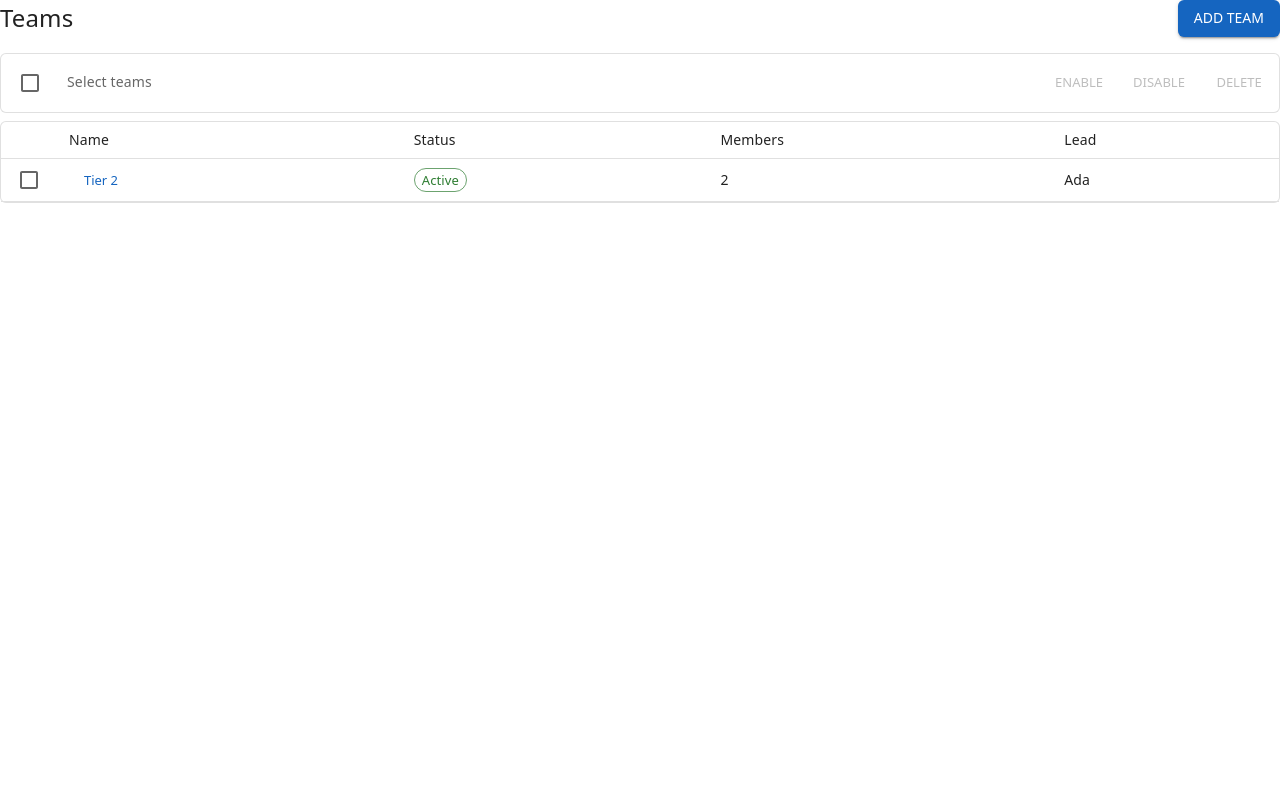
Test: TeamListPage (TS-M4-C4) › AC-3: the roster exposes only per-member remove checkboxes (no add-member control)
Click the button with test id "team-edit-1" at x=101, y=180, box [69,164,133,195]
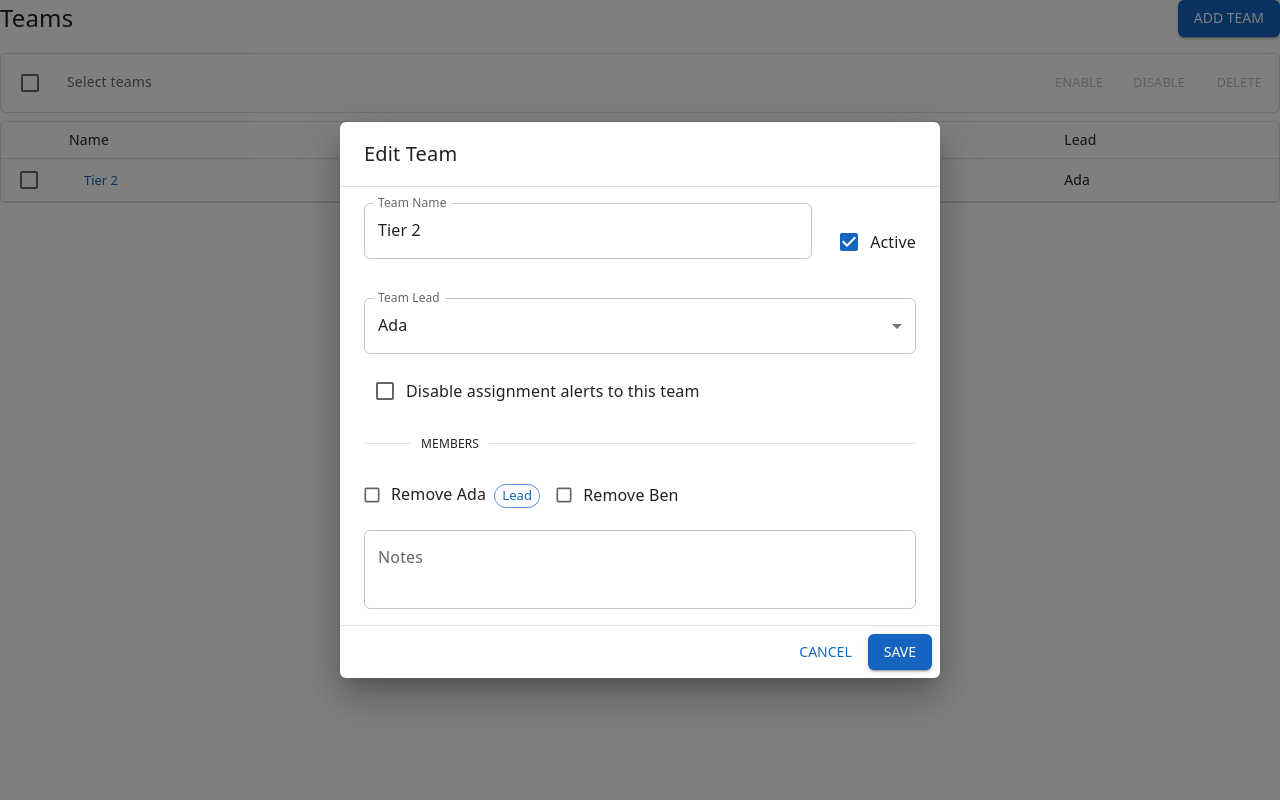
Expected: the element with test id "team-remove-10" is shown, [362,485,382,505]
Expected: the element with test id "team-remove-11" is shown, [554,485,574,505]
